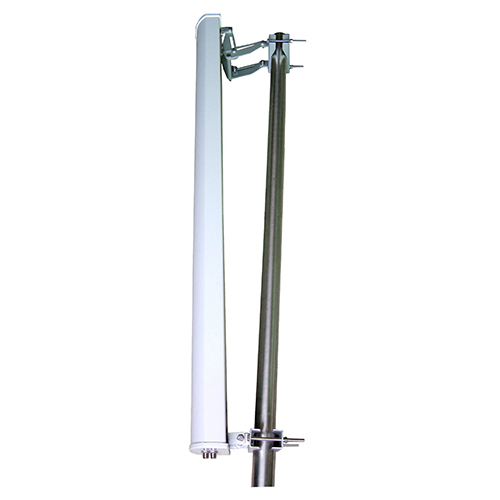sa: (165, 7, 321, 466)
